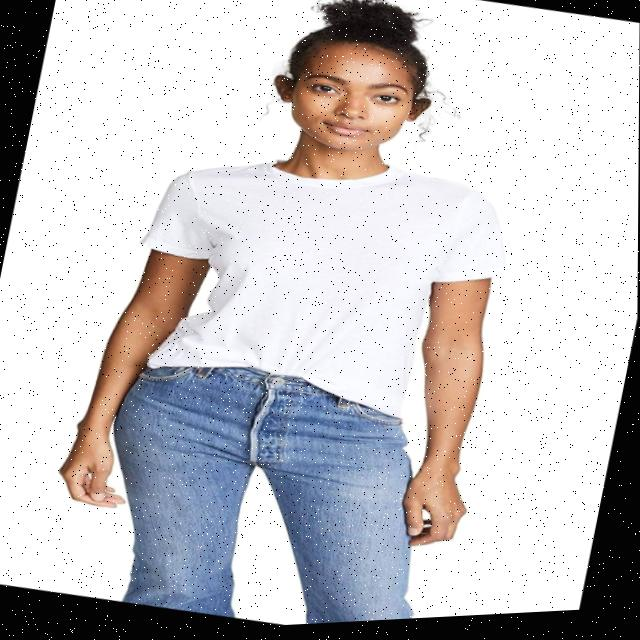Upper-Body: (142, 165, 505, 423)
